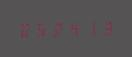five: (33, 20, 48, 37)
four: (66, 20, 81, 36)
one: (82, 19, 97, 36)
three: (98, 19, 113, 36)
two: (50, 20, 65, 37)
zero: (17, 20, 32, 37)
